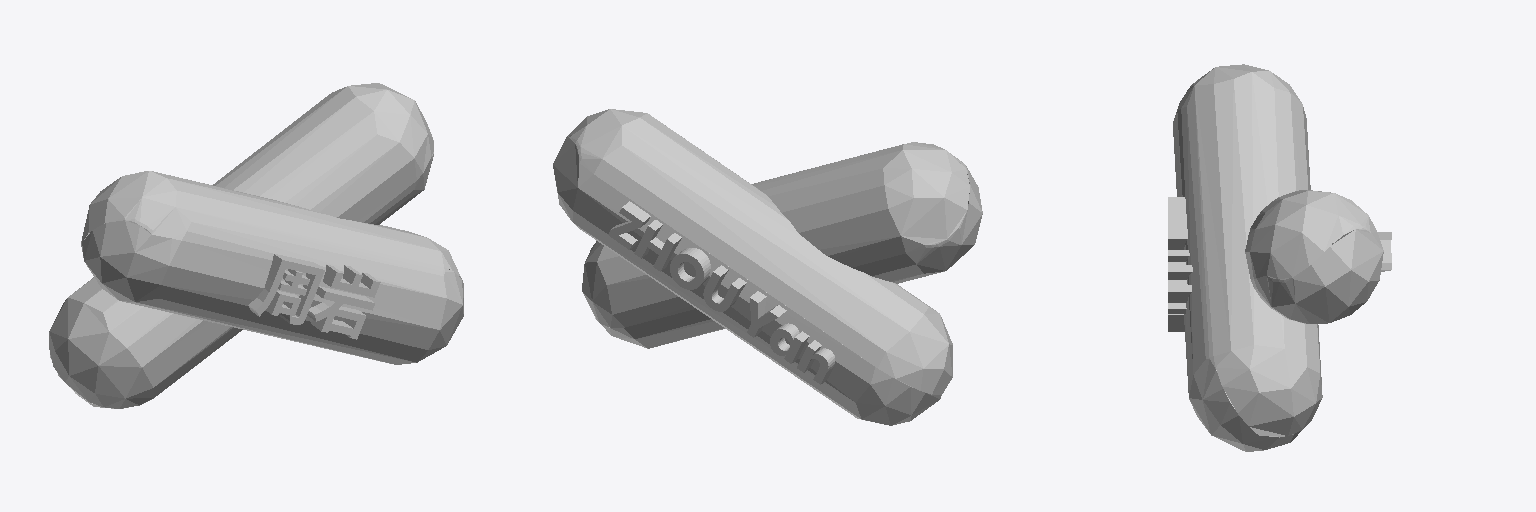
The model's file is ZhouYan.obj.
3 views of the same model, side by side, from view 1: azimuth 30°, elevation 25°; view 2: azimuth 150°, elevation 25°; view 3: azimuth 270°, elevation 25° (orthographic).
Visible parts, largest first — view 1: root_3, root_2, node_id920; view 2: root_2, root_3, node_id931; view 3: root_3, root_2, node_id920.
Part boxes in pixels (x1,y1,x2,y2): root_3: (81,171,463,364); root_2: (49,83,433,408); node_id920: (248,254,380,339); root_2: (553,109,952,425); root_3: (582,142,982,348); node_id931: (608,201,834,384); root_3: (1173,64,1322,451); root_2: (1245,190,1383,323); node_id920: (1168,197,1192,331).
Bounding box in the file's own units: 0.289 × 0.1836 × 0.1484.